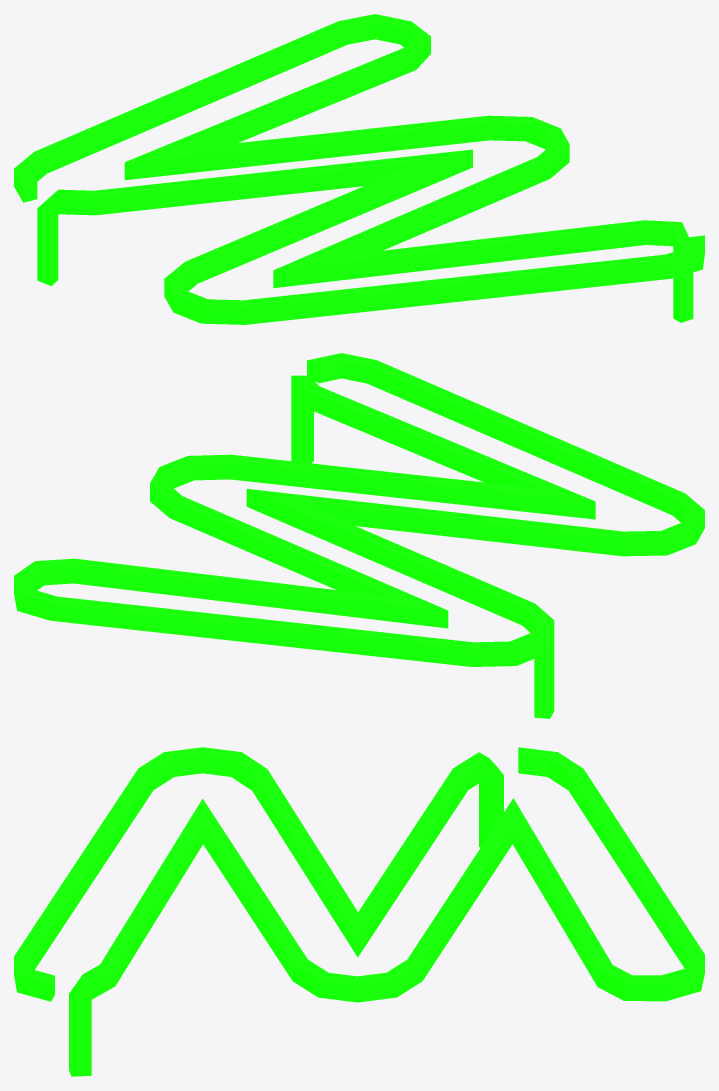
Rendered from Alphabet_3D_04_W.FBX.
3 views of the same model, one above another, from view 1: azimuth 30°, elevation 25°; view 2: azimuth 150°, elevation 25°; view 3: azimuth 270°, elevation 25° (orthographic). The views are drawn at different scales.
Visible parts, largest first — view 1: Alphabet_3D_04_W; view 2: Alphabet_3D_04_W; view 3: Alphabet_3D_04_W.
Boxes of the visible parts, x1,y1,x2,y2 form: Alphabet_3D_04_W: (14,14,704,324); Alphabet_3D_04_W: (14,353,704,718); Alphabet_3D_04_W: (14,747,704,1076).
Size of the model in its own units: 67.59 by 12.63 by 83.47.
